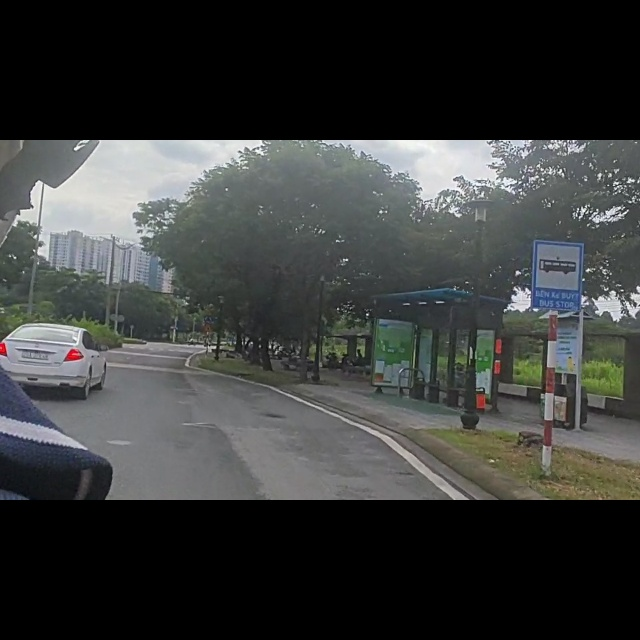bien_hieu_lenh: (530, 158, 586, 319)
